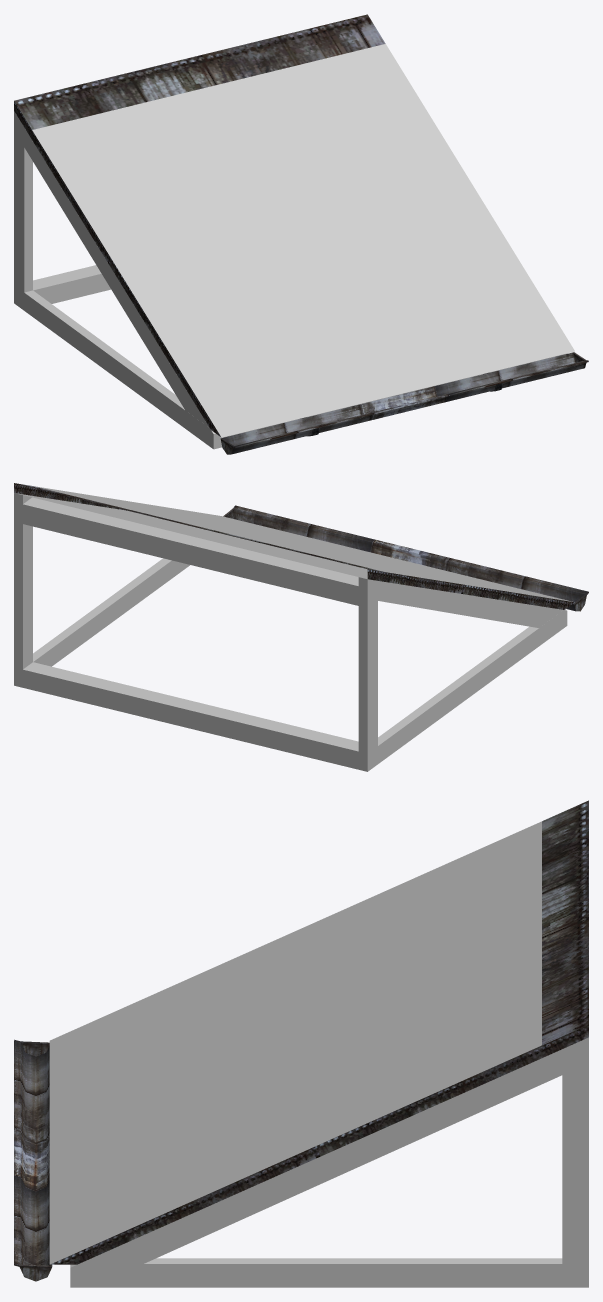
Rendered from factory_roof_01.DAE.
The picture shows the model from 3 angles, top to bottom: view 1: azimuth 30°, elevation 25°; view 2: azimuth 150°, elevation 25°; view 3: azimuth 270°, elevation 25°; orthographic projection. The views are drawn at different scales.
Parts seen in each view (by area): view 1: Box028, Box027, Object052, Object025; view 2: Object052, Box028, Object025, Box027, Object093; view 3: Box028, Object052, Box027, Object025.
Part boxes in pixels (<box>): Box028: <box>32,44,574,437</box>; Box027: <box>14,14,385,436</box>; Object052: <box>14,111,567,449</box>; Object025: <box>220,352,588,454</box>; Object052: <box>14,493,567,771</box>; Box028: <box>35,486,572,601</box>; Object025: <box>223,505,588,611</box>; Box027: <box>14,483,574,609</box>; Object093: <box>16,493,367,578</box>; Box028: <box>49,821,541,1264</box>; Object052: <box>70,1037,588,1287</box>; Box027: <box>50,800,588,1264</box>; Object025: <box>14,1039,52,1281</box>.
Size of the model in its own units: 4 by 2.19 by 4.34.
